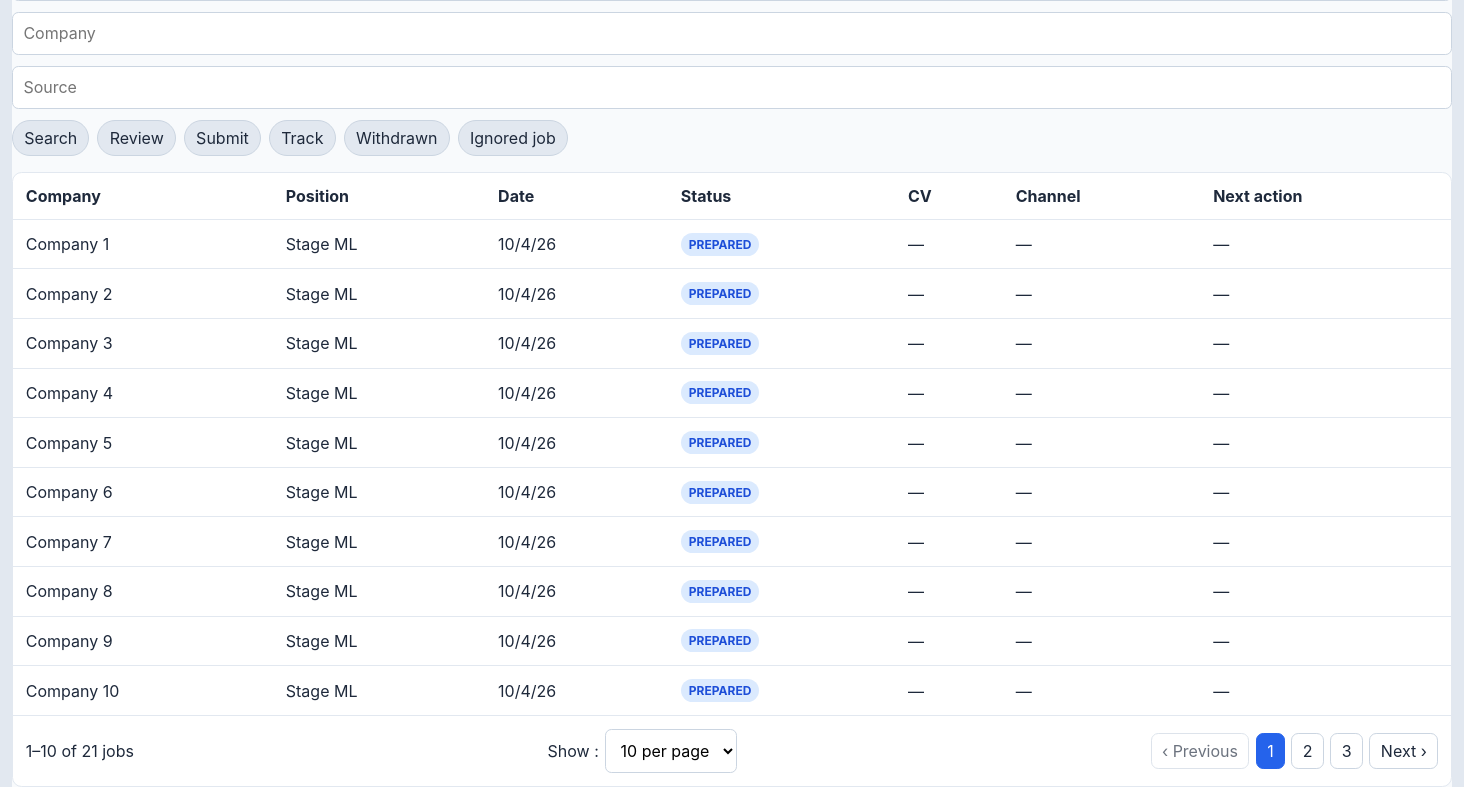
Scenario: pagination des candidatures › recule vers la dernière page valide lorsque la liste diminue
(page scrolled)
What coordinates should you click on to do the following:
click the button "3"
I would click on:
 (1347, 751)
Its box is left=1330, top=733, right=1363, bottom=769.
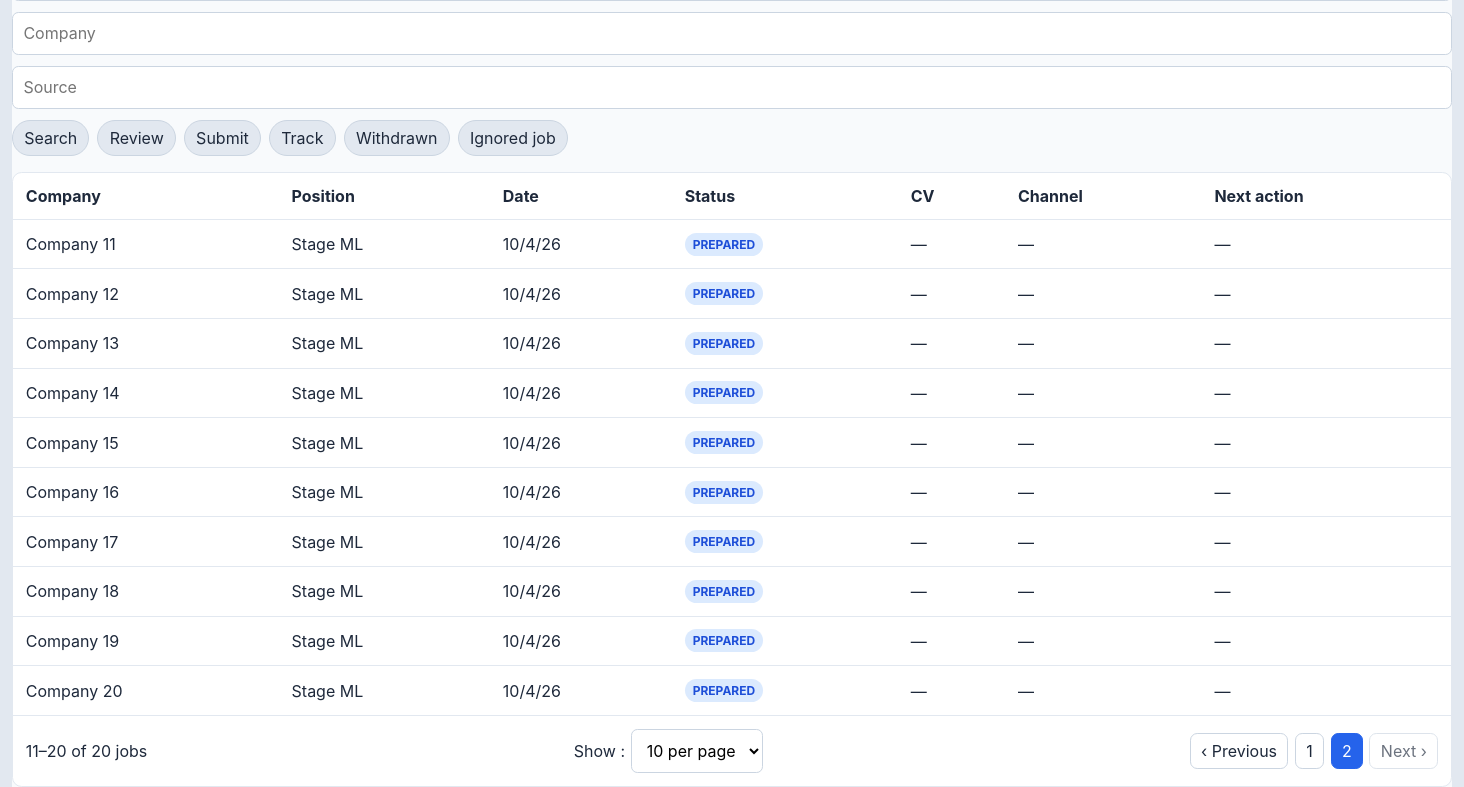
Check: the element showing "11–20 of 20 jobs Show : ‹ Previous 1 2 Next ›" is shown, box left=13, top=716, right=1451, bottom=786
